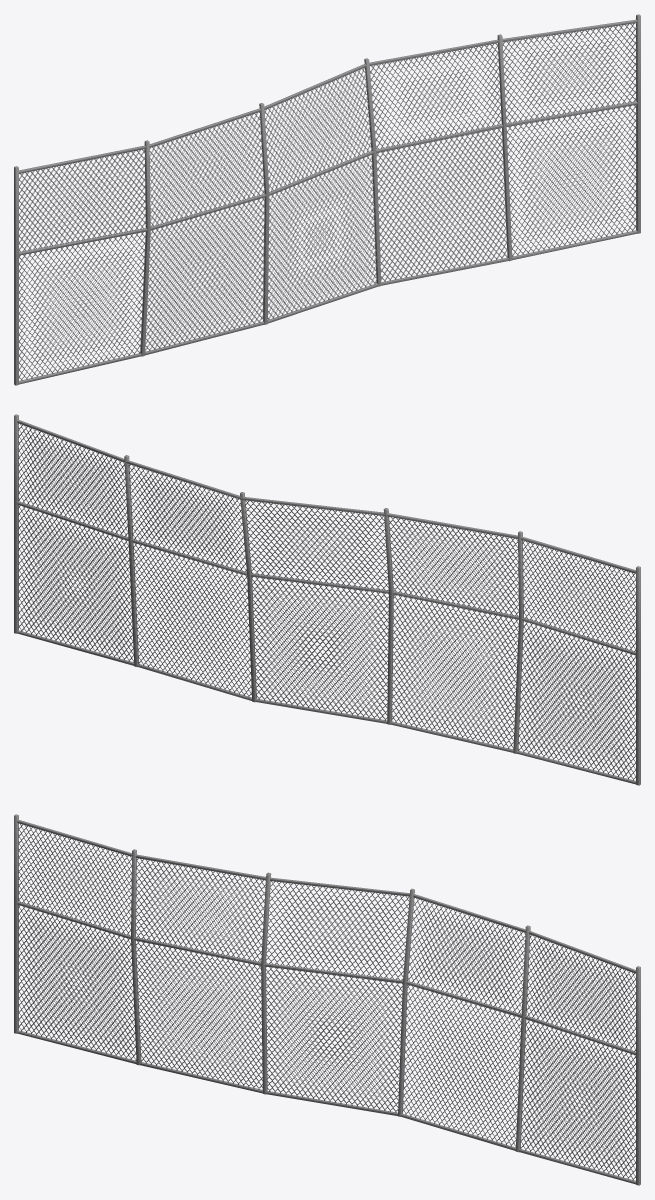
The model's file is FenceMetal01_7.FBX.
3 renders of one model, top to bottom at view 1: azimuth 30°, elevation 25°; view 2: azimuth 150°, elevation 25°; view 3: azimuth 330°, elevation 25°, orthographic.
Parts seen in each view (by area): view 1: FenceMetal01; view 2: FenceMetal01; view 3: FenceMetal01.
Boxes of the visible parts, x1,y1,x2,y2 form: FenceMetal01: (14, 14, 640, 385); FenceMetal01: (14, 414, 640, 785); FenceMetal01: (14, 814, 640, 1185).
Size of the model in its own units: 246 by 81.94 by 22.05.
